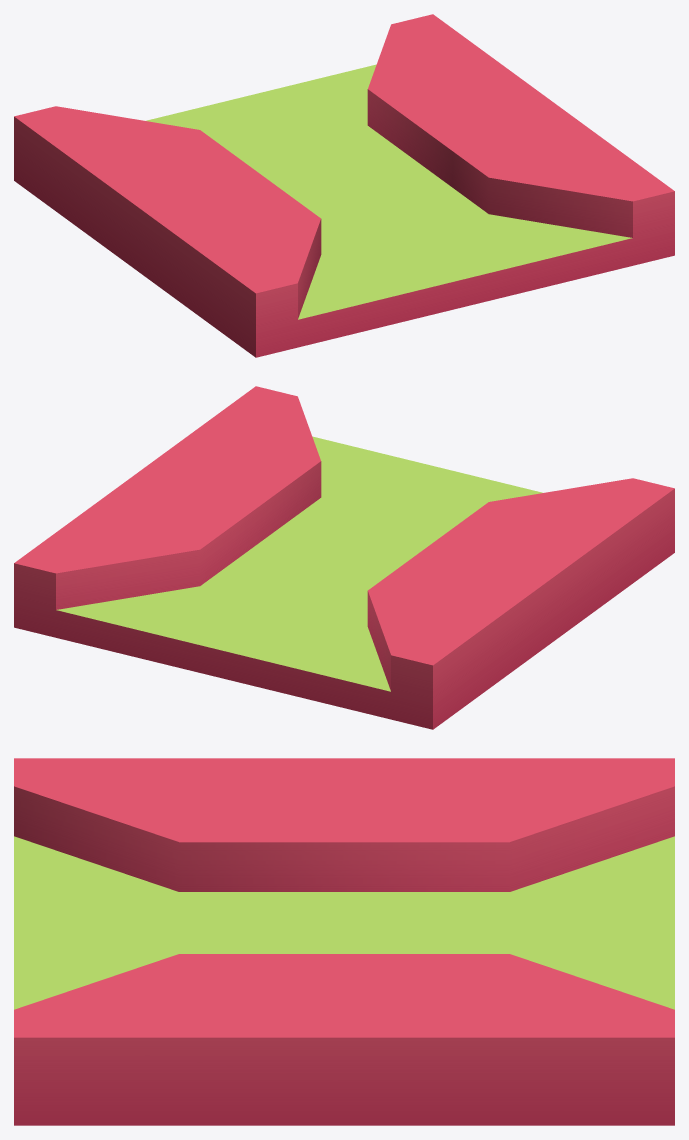
The model's file is narrow-square.gltf.
3 renders of one model, top to bottom at view 1: azimuth 30°, elevation 25°; view 2: azimuth 150°, elevation 25°; view 3: azimuth 270°, elevation 25°, orthographic. The views are drawn at different scales.
Parts seen in each view (by area): view 1: narrow-square; view 2: narrow-square; view 3: narrow-square.
Boxes of the visible parts, box(x1,y1,x2,y2) form: narrow-square: box(14, 14, 674, 357); narrow-square: box(14, 386, 674, 729); narrow-square: box(14, 758, 674, 1125).
Bounding box in the file's own units: 0.9999 × 0.1467 × 0.9999.
Materials: 1 (1 with a texture image).
